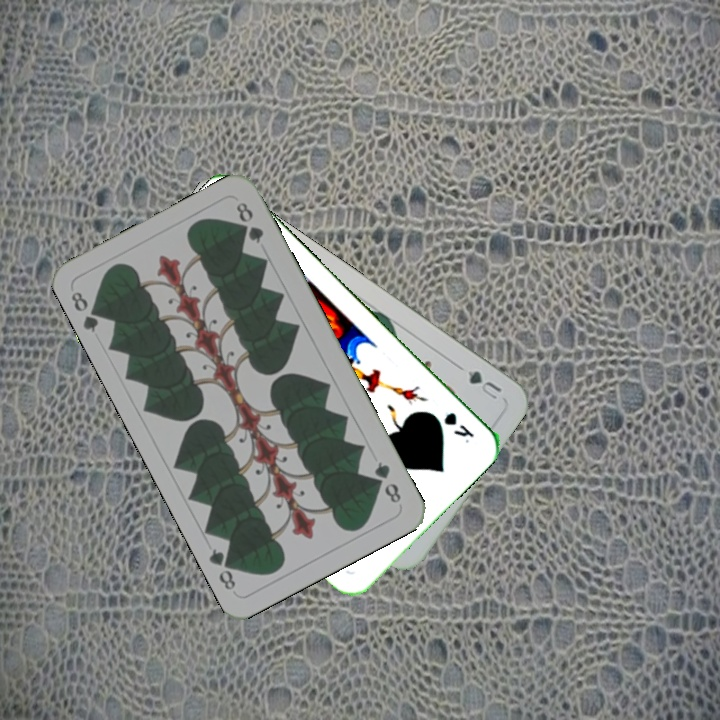G8: (66, 287, 107, 336), (370, 457, 404, 506)
GK: (439, 408, 477, 440)
GU: (463, 366, 505, 402)
